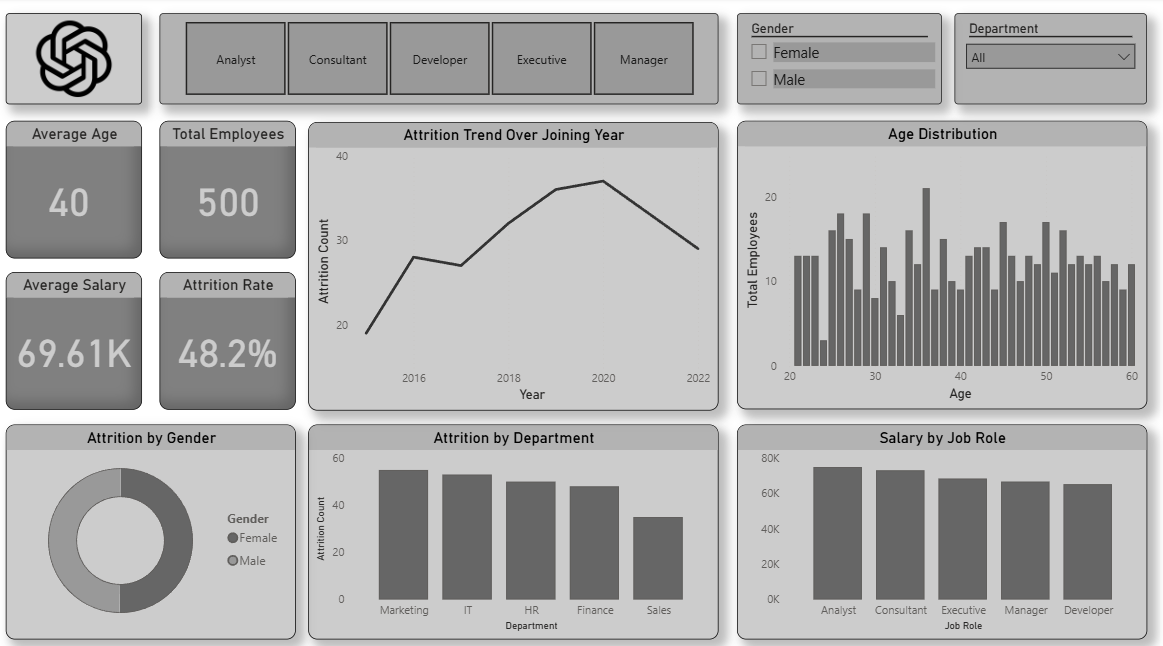

This screenshot's page, from the dashboard's own definition file:
{"tool":"powerbi","page":{"name":"Page 1","canvas":[1280,720],"ordinal":0},"visuals":[{"type":"card","title":"Total Employees","fields":{"Values":["HR.Total Employees"]},"box":[178.4,135.8,149.6,150.9],"z":0},{"type":"card","title":"Average Salary","fields":{"Values":["HR.Average Salary"]},"box":[9.6,301.9,149.6,150.9],"z":1000},{"type":"card","title":"Average Age","fields":{"Values":["HR.Average Age"]},"box":[9.6,135.8,149.6,150.9],"z":2000},{"type":"card","title":"Attrition Rate","fields":{"Values":["HR.Attrition Rate"]},"box":[178.4,301.9,149.6,150.9],"z":3000},{"type":"clusteredColumnChart","title":"Attrition by Department","fields":{"Category":["HR.Department"],"Y":["HR.Attrition Count"]},"box":[341.7,469.3,450.1,236],"z":4000},{"type":"donutChart","title":"Attrition by Gender","fields":{"Y":["HR.Attrition Count"],"Category":["HR.Gender"]},"box":[9.6,469.3,318.4,236],"z":5000},{"type":"clusteredColumnChart","title":"Age Distribution","fields":{"Y":["HR.Total Employees"],"Category":["HR.Age"]},"box":[812.4,135.8,450.1,317],"z":6000},{"type":"clusteredColumnChart","title":"Salary by Job Role","fields":{"Category":["HR.JobRole"],"Y":["HR.Average Salary"]},"box":[812.4,469.3,450.1,236],"z":7000},{"type":"slicer","fields":{"Values":["HR.Department"]},"box":[1051.1,17.8,211.3,100.2],"z":8000},{"type":"slicer","fields":{"Values":["HR.JobRole"]},"box":[178.4,17.8,613.4,100.2],"z":9000},{"type":"slicer","fields":{"Values":["HR.Gender"]},"box":[812.4,17.8,225,100.2],"z":10000},{"type":"lineChart","title":"Attrition Trend Over Joining Year","fields":{"Y":["HR.Attrition Count"],"Category":["HR.JoiningDate.Variation.Date Hierarchy.Year"]},"box":[341.7,137.2,450.1,317],"z":11000},{"type":"image","box":[9.6,17.8,149.6,100.2],"z":11001}]}

Visuals, with their boxes in screenshot pixels (x1, y1, x2, y2), scaled from the page's 1280x720 canvas onto the 1163x646 screenshot:
"Total Employees" card: {"left": 162, "top": 122, "right": 298, "bottom": 257}
"Average Salary" card: {"left": 9, "top": 271, "right": 145, "bottom": 406}
"Average Age" card: {"left": 9, "top": 122, "right": 145, "bottom": 257}
"Attrition Rate" card: {"left": 162, "top": 271, "right": 298, "bottom": 406}
"Attrition by Department" clusteredColumnChart: {"left": 310, "top": 421, "right": 719, "bottom": 633}
"Attrition by Gender" donutChart: {"left": 9, "top": 421, "right": 298, "bottom": 633}
"Age Distribution" clusteredColumnChart: {"left": 738, "top": 122, "right": 1147, "bottom": 406}
"Salary by Job Role" clusteredColumnChart: {"left": 738, "top": 421, "right": 1147, "bottom": 633}
slicer - HR.Department: {"left": 955, "top": 16, "right": 1147, "bottom": 106}
slicer - HR.JobRole: {"left": 162, "top": 16, "right": 719, "bottom": 106}
slicer - HR.Gender: {"left": 738, "top": 16, "right": 943, "bottom": 106}
"Attrition Trend Over Joining Year" lineChart: {"left": 310, "top": 123, "right": 719, "bottom": 408}
image: {"left": 9, "top": 16, "right": 145, "bottom": 106}
